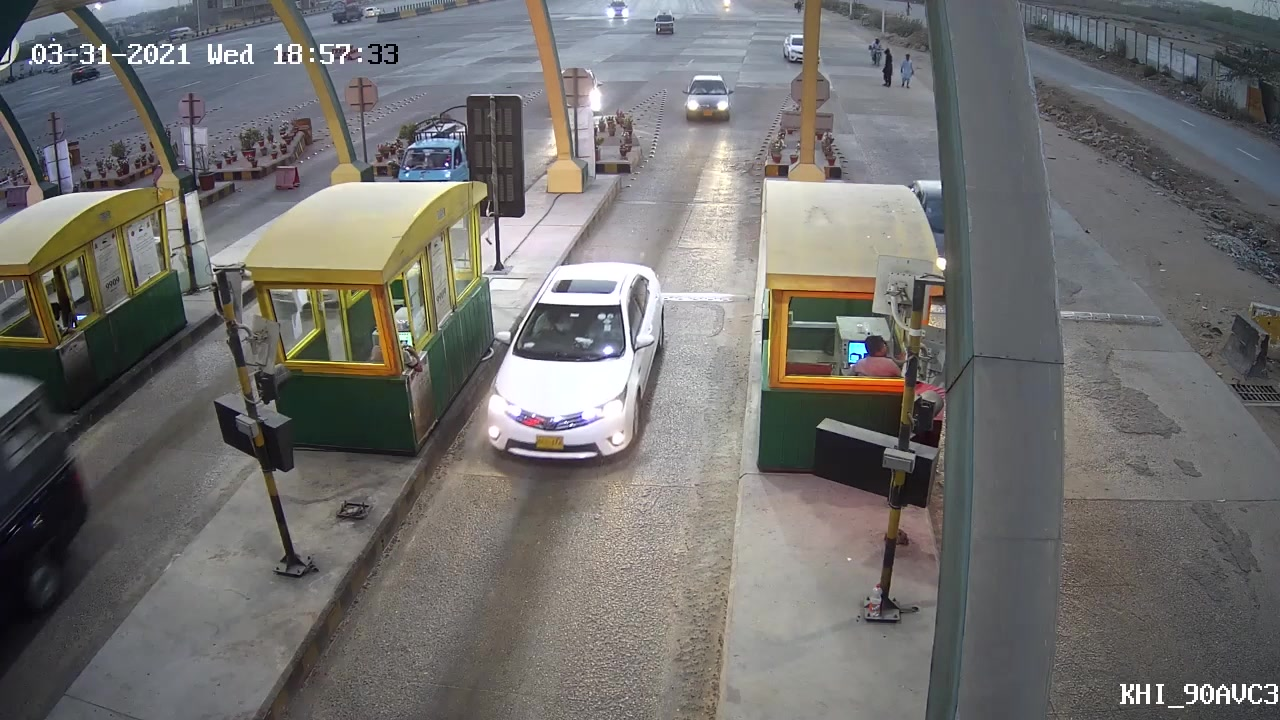F1: (473, 258, 672, 474)
